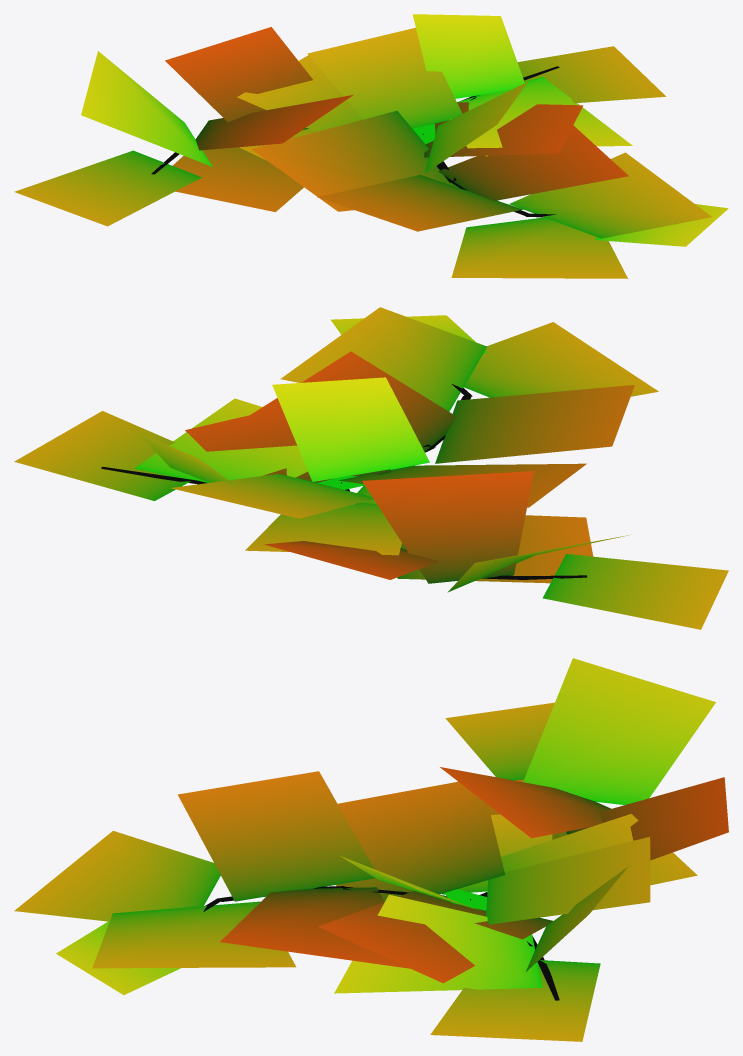
The model's file is Mile-a-minute Vine_LOD2_Var6_sfqns.fbx.
The picture shows the model from 3 angles, top to bottom: view 1: azimuth 30°, elevation 25°; view 2: azimuth 150°, elevation 25°; view 3: azimuth 270°, elevation 25°; orthographic projection. The views are drawn at different scales.
Visible parts, largest first — view 1: _bdb8_Var6_LOD2; view 2: _bdb8_Var6_LOD2; view 3: _bdb8_Var6_LOD2.
Boxes of the visible parts, x1,y1,x2,y2 form: _bdb8_Var6_LOD2: (14,14,728,278); _bdb8_Var6_LOD2: (14,307,728,629); _bdb8_Var6_LOD2: (14,658,728,1041).
Size of the model in its own units: 35.23 by 4.69 by 31.01.
